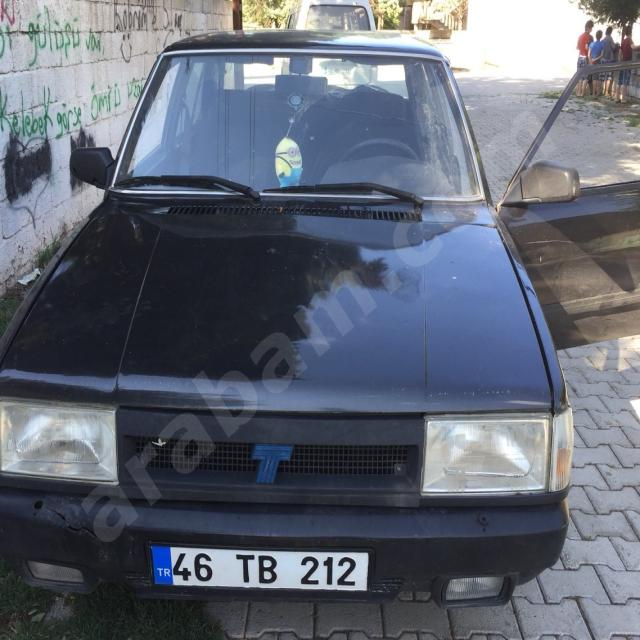license_plate: (151, 543, 369, 592)
